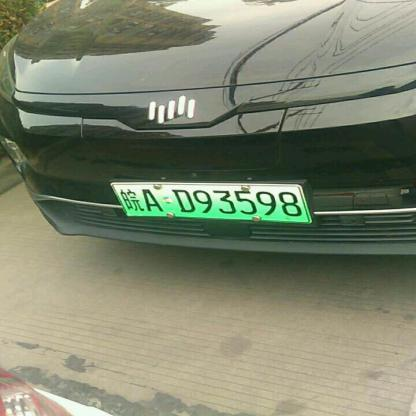lp: (112, 183, 309, 222)
